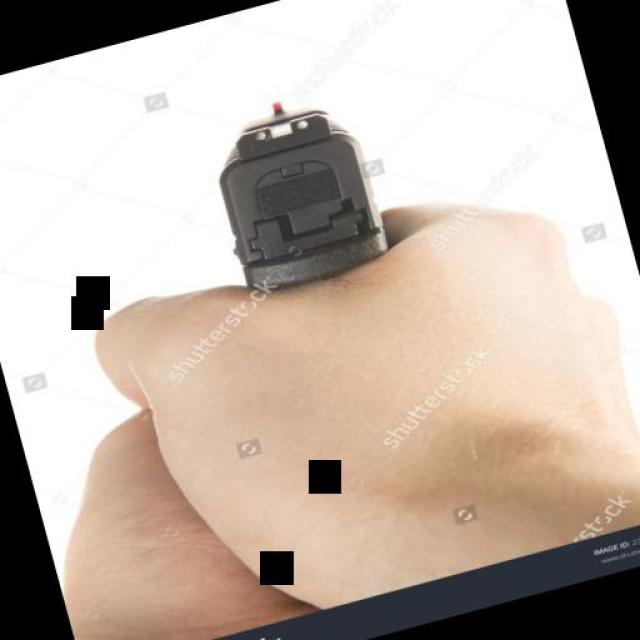gun: (198, 77, 396, 295)
